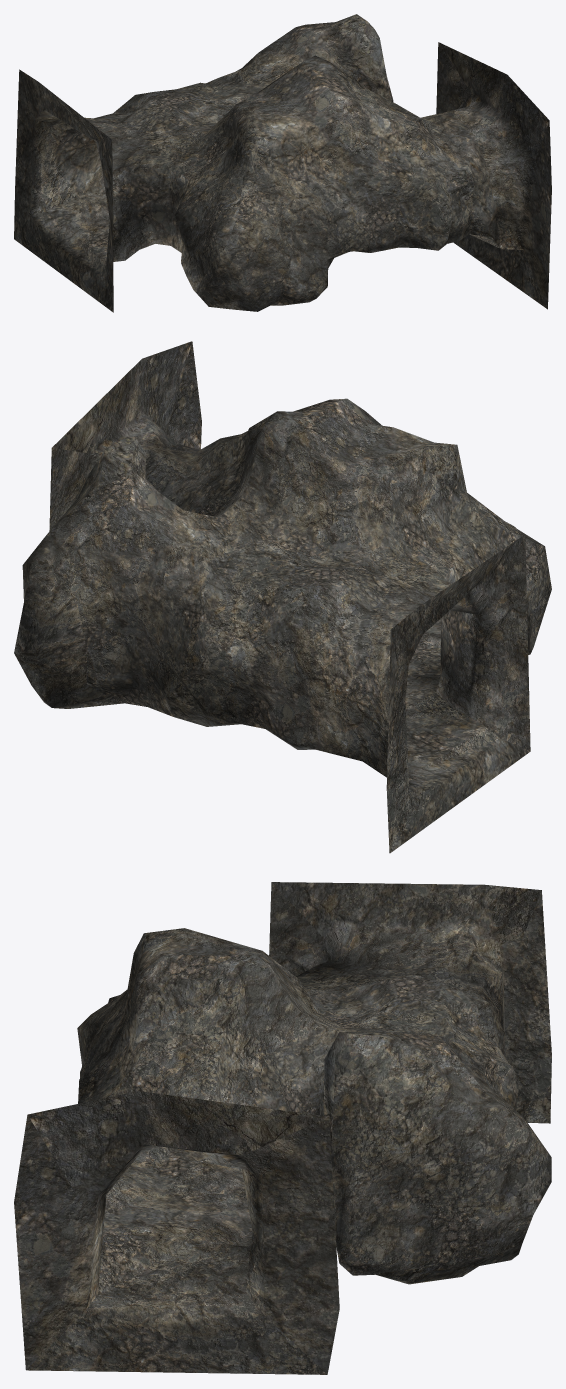
File: Cave22.fbx
The picture shows the model from 3 angles, top to bottom: view 1: azimuth 30°, elevation 25°; view 2: azimuth 150°, elevation 25°; view 3: azimuth 270°, elevation 25°; orthographic projection. The views are drawn at different scales.
Parts seen in each view (by area): view 1: Cave22; view 2: Cave22; view 3: Cave22.
Boxes of the visible parts, x1,y1,x2,y2 form: Cave22: (14, 14, 551, 312); Cave22: (14, 341, 551, 853); Cave22: (14, 882, 551, 1374).
Bounding box in the file's own units: 189 × 117 × 182.
